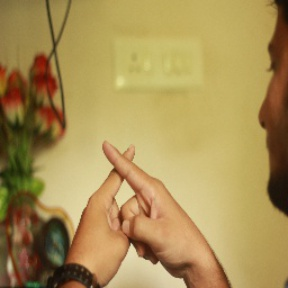X: (70, 129, 193, 228)
